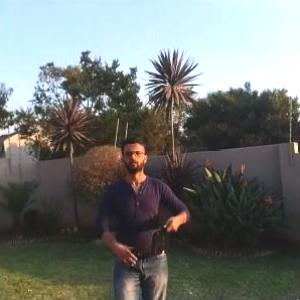follow: (91, 129, 196, 299)
